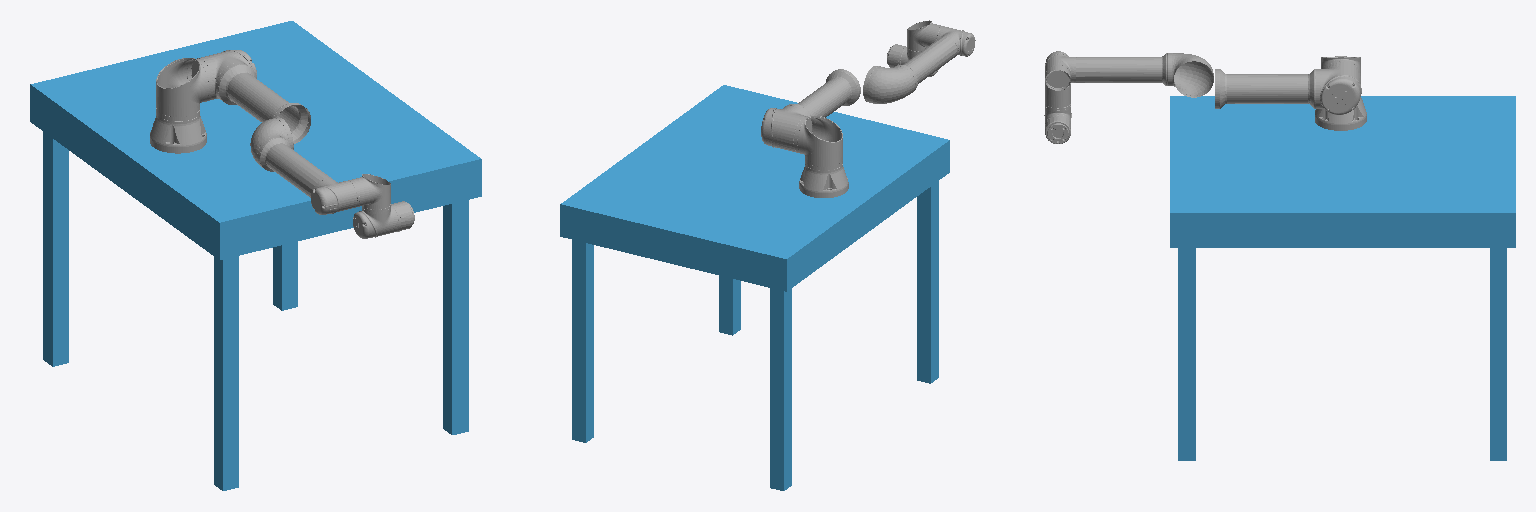
URDF robot description (ur5e):
<?xml version="1.0" encoding="utf-8"?>
<robot name="ur5e">
  <link name="world"/>
  <joint name="world_joint" type="fixed">
    <parent link="world"/>
    <child link="base_link"/>
    <origin rpy="0.0 0.0 -1.57079" xyz="-0.24 -0.005 0"/>
  </joint>
  <joint name="table_joint" type="fixed">
    <parent link="world"/>
    <child link="table"/>
    <origin rpy="0.0 0.0 -1.57079" xyz="0.0 0.0 -0.005"/>
  </joint>
  <link name="table">
    <visual>
      <geometry>
        <mesh filename="meshes/table/visual/table.obj"/>
      </geometry>
    </visual>
    <collision>
      <geometry>
        <mesh filename="meshes/table/collision/table.obj"/>
      </geometry>
    </collision>
  </link>
  <link name="base_link">
    <visual>
      <geometry>
        <mesh filename="meshes/ur5e/visual/base.obj"/>
      </geometry>
      <material name="LightGrey">
        <color rgba="0.7 0.7 0.7 1.0"/>
      </material>
    </visual>
    <collision>
      <geometry>
        <mesh filename="meshes/ur5e/collision/base.stl"/>
      </geometry>
    </collision>
    <inertial>
      <mass value="4.0"/>
      <origin rpy="0 0 0" xyz="0.0 0.0 0.0"/>
      <inertia ixx="0.00443333156" ixy="0.0" ixz="0.0" iyy="0.00443333156" iyz="0.0" izz="0.0072"/>
    </inertial>
  </link>
  <joint name="shoulder_pan_joint" type="revolute">
    <parent link="base_link"/>
    <child link="shoulder_link"/>
    <origin rpy="0.0 0.0 0.0" xyz="0.0 0.0 0.163"/>
    <axis xyz="0 0 1"/>
    <limit effort="150.0" lower="-6.28318530718" upper="6.28318530718" velocity="3.14"/>
    <dynamics damping="0.0" friction="0.0"/>
  </joint>
  <link name="shoulder_link">
    <visual>
      <geometry>
        <mesh filename="meshes/ur5e/visual/shoulder.obj"/>
      </geometry>
      <material name="LightGrey">
        <color rgba="0.7 0.7 0.7 1.0"/>
      </material>
    </visual>
    <collision>
      <geometry>
        <mesh filename="meshes/ur5e/collision/shoulder.stl"/>
      </geometry>
    </collision>
    <inertial>
      <mass value="3.7"/>
      <origin rpy="0 0 0" xyz="0.0 0.0 0.0"/>
      <inertia ixx="0.010267495893" ixy="0.0" ixz="0.0" iyy="0.010267495893" iyz="0.0" izz="0.00666"/>
    </inertial>
  </link>
  <joint name="shoulder_lift_joint" type="revolute">
    <parent link="shoulder_link"/>
    <child link="upper_arm_link"/>
    <origin rpy="0.0 1.57079632679 0.0" xyz="0.0 0.138 0.0"/>
    <axis xyz="0 1 0"/>
    <limit effort="150.0" lower="-6.28318530718" upper="6.28318530718" velocity="3.14"/>
    <dynamics damping="0.0" friction="0.0"/>
  </joint>
  <link name="upper_arm_link">
    <visual>
      <geometry>
        <mesh filename="meshes/ur5e/visual/upperarm.obj"/>
      </geometry>
      <material name="LightGrey">
        <color rgba="0.7 0.7 0.7 1.0"/>
      </material>
    </visual>
    <collision>
      <geometry>
        <mesh filename="meshes/ur5e/collision/upperarm.stl"/>
      </geometry>
    </collision>
    <inertial>
      <mass value="8.393"/>
      <origin rpy="0 0 0" xyz="0.0 0.0 0.2125"/>
      <inertia ixx="0.133885781862" ixy="0.0" ixz="0.0" iyy="0.133885781862" iyz="0.0" izz="0.0151074"/>
    </inertial>
  </link>
  <joint name="elbow_joint" type="revolute">
    <parent link="upper_arm_link"/>
    <child link="forearm_link"/>
    <origin rpy="0.0 0.0 0.0" xyz="0.0 -0.131 0.425"/>
    <axis xyz="0 1 0"/>
    <limit effort="150.0" lower="-3.14159265359" upper="3.14159265359" velocity="3.14"/>
    <dynamics damping="0.0" friction="0.0"/>
  </joint>
  <link name="forearm_link">
    <visual>
      <geometry>
        <mesh filename="meshes/ur5e/visual/forearm.obj"/>
      </geometry>
      <material name="LightGrey">
        <color rgba="0.7 0.7 0.7 1.0"/>
      </material>
    </visual>
    <collision>
      <geometry>
        <mesh filename="meshes/ur5e/collision/forearm.stl"/>
      </geometry>
    </collision>
    <inertial>
      <mass value="2.275"/>
      <origin rpy="0 0 0" xyz="0.0 0.0 0.196"/>
      <inertia ixx="0.0311796208615" ixy="0.0" ixz="0.0" iyy="0.0311796208615" iyz="0.0" izz="0.004095"/>
    </inertial>
  </link>
  <joint name="wrist_1_joint" type="revolute">
    <parent link="forearm_link"/>
    <child link="wrist_1_link"/>
    <origin rpy="0.0 1.57079632679 0.0" xyz="0.0 0.0 0.392"/>
    <axis xyz="0 1 0"/>
    <limit effort="28.0" lower="-6.28318530718" upper="6.28318530718" velocity="6.28"/>
    <dynamics damping="0.0" friction="0.0"/>
  </joint>
  <link name="wrist_1_link">
    <visual>
      <geometry>
        <mesh filename="meshes/ur5e/visual/wrist1.obj"/>
      </geometry>
      <material name="LightGrey">
        <color rgba="0.7 0.7 0.7 1.0"/>
      </material>
    </visual>
    <collision>
      <geometry>
        <mesh filename="meshes/ur5e/collision/wrist1.stl"/>
      </geometry>
    </collision>
    <inertial>
      <mass value="1.219"/>
      <origin rpy="0 0 0" xyz="0.0 0.127 0.0"/>
      <inertia ixx="0.00255989897604" ixy="0.0" ixz="0.0" iyy="0.00255989897604" iyz="0.0" izz="0.0021942"/>
    </inertial>
  </link>
  <joint name="wrist_2_joint" type="revolute">
    <parent link="wrist_1_link"/>
    <child link="wrist_2_link"/>
    <origin rpy="0.0 0.0 0.0" xyz="0.0 0.127 0.0"/>
    <axis xyz="0 0 1"/>
    <limit effort="28.0" lower="-6.28318530718" upper="6.28318530718" velocity="6.28"/>
    <dynamics damping="0.0" friction="0.0"/>
  </joint>
  <link name="wrist_2_link">
    <visual>
      <geometry>
        <mesh filename="meshes/ur5e/visual/wrist2.obj"/>
      </geometry>
      <material name="LightGrey">
        <color rgba="0.7 0.7 0.7 1.0"/>
      </material>
    </visual>
    <collision>
      <geometry>
        <mesh filename="meshes/ur5e/collision/wrist2.stl"/>
      </geometry>
    </collision>
    <inertial>
      <mass value="1.219"/>
      <origin rpy="0 0 0" xyz="0.0 0.0 0.1"/>
      <inertia ixx="0.00255989897604" ixy="0.0" ixz="0.0" iyy="0.00255989897604" iyz="0.0" izz="0.0021942"/>
    </inertial>
  </link>
  <joint name="wrist_3_joint" type="revolute">
    <parent link="wrist_2_link"/>
    <child link="wrist_3_link"/>
    <origin rpy="0.0 0.0 0.0" xyz="0.0 0.0 0.1"/>
    <axis xyz="0 1 0"/>
    <limit effort="28.0" lower="-6.28318530718" upper="6.28318530718" velocity="6.28"/>
    <dynamics damping="0.0" friction="0.0"/>
  </joint>
  <link name="wrist_3_link">
    <visual>
      <geometry>
        <mesh filename="meshes/ur5e/visual/wrist3.obj"/>
      </geometry>
      <material name="LightGrey">
        <color rgba="0.7 0.7 0.7 1.0"/>
      </material>
    </visual>
    <collision>
      <geometry>
        <mesh filename="meshes/ur5e/collision/wrist3.stl"/>
      </geometry>
    </collision>
    <inertial>
      <mass value="0.1879"/>
      <origin rpy="1.57079632679 0 0" xyz="0.0 0.0771 0.0"/>
      <inertia ixx="9.89041005217e-05" ixy="0.0" ixz="0.0" iyy="9.89041005217e-05" iyz="0.0" izz="0.0001321171875"/>
    </inertial>
  </link>
  <joint name="ee_fixed_joint" type="fixed">
    <parent link="wrist_3_link"/>
    <child link="ee_link"/>
    <origin rpy="0.0 0.0 1.57079632679" xyz="0.0 0.1 0.0"/>
  </joint>
  <link name="ee_link">
    <collision>
      <geometry>
        <box size="0.01 0.01 0.01"/>
      </geometry>
      <origin rpy="0 0 0" xyz="-0.01 0 0"/>
    </collision>
  </link>
</robot>

--- Render facts (derived) ---
3 views of the same robot in one strip: view 1: azimuth 30°, elevation 25°; view 2: azimuth 150°, elevation 25°; view 3: azimuth 270°, elevation 25° (orthographic).
Model ur5e with 10 links and 9 joints (6 revolute, 3 fixed), rooted at world, posed all joints at 0.
Links seen in each view (by area): view 1: table, upper_arm_link, forearm_link, shoulder_link, base_link, wrist_2_link, wrist_1_link; view 2: table, forearm_link, upper_arm_link, shoulder_link, base_link, wrist_1_link; view 3: table, upper_arm_link, forearm_link, base_link, wrist_1_link, wrist_3_link.
Boxes of the visible links, <box> form: table: <box>30,21,481,490</box>; upper_arm_link: <box>192,50,310,149</box>; forearm_link: <box>250,118,359,214</box>; shoulder_link: <box>156,58,213,116</box>; base_link: <box>150,108,206,153</box>; wrist_2_link: <box>353,204,400,238</box>; wrist_1_link: <box>352,174,390,211</box>; table: <box>560,85,949,490</box>; forearm_link: <box>867,26,975,103</box>; upper_arm_link: <box>761,66,878,152</box>; shoulder_link: <box>793,116,842,166</box>; base_link: <box>799,160,848,197</box>; wrist_1_link: <box>907,20,940,53</box>; table: <box>1170,96,1515,460</box>; upper_arm_link: <box>1174,59,1361,114</box>; forearm_link: <box>1045,51,1213,95</box>; base_link: <box>1315,97,1366,130</box>; wrist_1_link: <box>1045,66,1070,109</box>; wrist_3_link: <box>1045,116,1070,143</box>.
Bounding box of the posed robot: 0.8 × 1.36 × 1.02 m (x, y, z).
Meshes: 8 distinct files referenced, 8 mesh visuals loaded (8 OBJ).